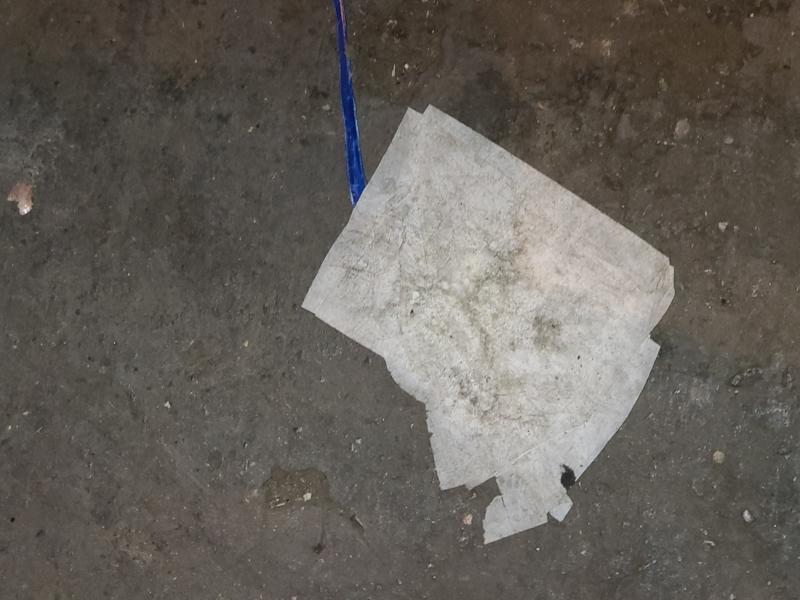papel: (300, 107, 677, 546)
